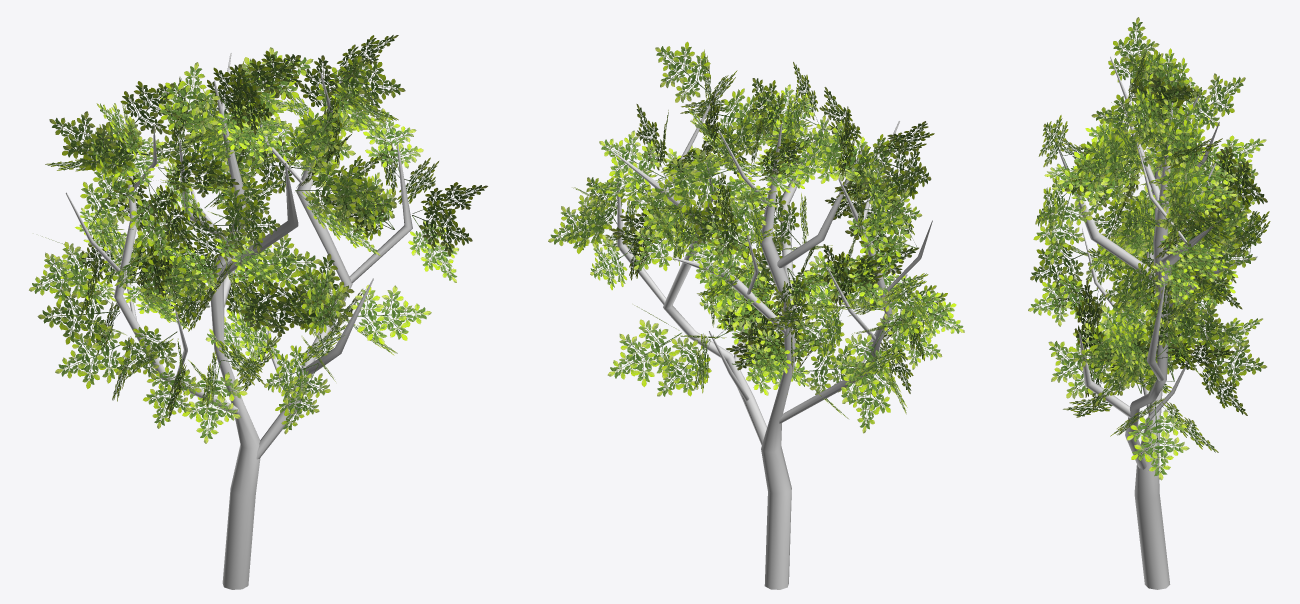
Rendered from Tree9.fbx.
The picture shows the model from 3 angles, left to right: view 1: azimuth 30°, elevation 25°; view 2: azimuth 150°, elevation 25°; view 3: azimuth 270°, elevation 25°; orthographic projection. The views are drawn at different scales.
Parts seen in each view (by area): view 1: Tree9; view 2: Tree9; view 3: Tree9.
Boxes of the visible parts, x1,y1,x2,y2 form: Tree9: [29, 35, 487, 589]; Tree9: [548, 41, 964, 589]; Tree9: [1028, 17, 1270, 589].
Size of the model in its own units: 851 by 1017 by 476.
